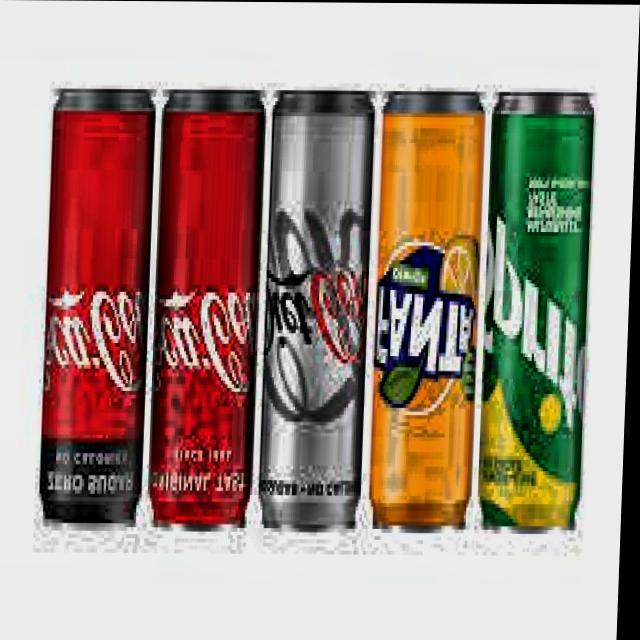Aluminum Can: (34, 80, 160, 538), (478, 86, 604, 539), (148, 87, 271, 542), (368, 89, 492, 538), (259, 84, 379, 540)
